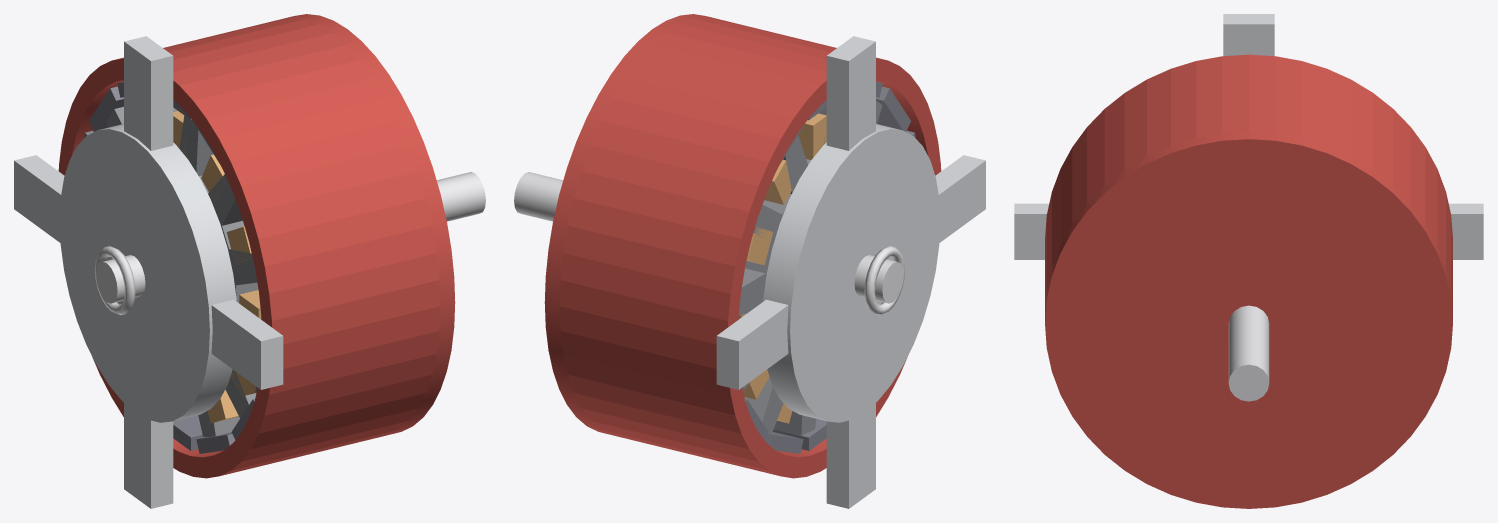
File: electrico_brushless_0p3_patas.glb
The picture shows the model from 3 angles, left to right: view 1: azimuth 30°, elevation 25°; view 2: azimuth 150°, elevation 25°; view 3: azimuth 270°, elevation 25°; orthographic projection. The views are drawn at different scales.
Parts seen in each view (by area): view 1: campana, base, estator, eje, imanes, clip; view 2: campana, base, estator, eje, imanes, clip; view 3: campana, base, eje.
Part boxes in pixels (x1,y1,x2,y2): campana: (58,14,455,478); base: (14,36,283,508); estator: (105,106,261,436); eje: (96,172,485,303); imanes: (84,81,257,453); clip: (95,246,135,315); campana: (544,14,941,478); base: (716,36,985,508); estator: (738,100,882,435); eje: (514,172,903,303); imanes: (742,81,915,453); clip: (864,246,904,315); campana: (1045,54,1452,508); base: (1014,14,1483,259); eje: (1228,305,1269,401).
Size of the model in its own units: 5.69 by 6.61 by 6.61.
